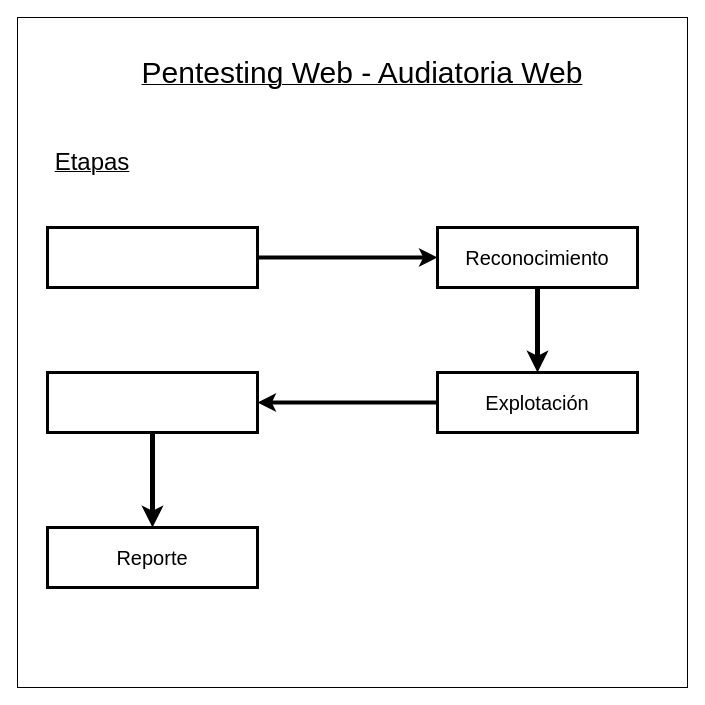
The diagram is 705 pixels wide and 705 high, and some of its shapes have lost their labels. Here are the shapes that lost their labels. From the top down, the centre of each, then its label:
At (x=152, y=257): "Introdución".
At (x=152, y=402): "Solución".
